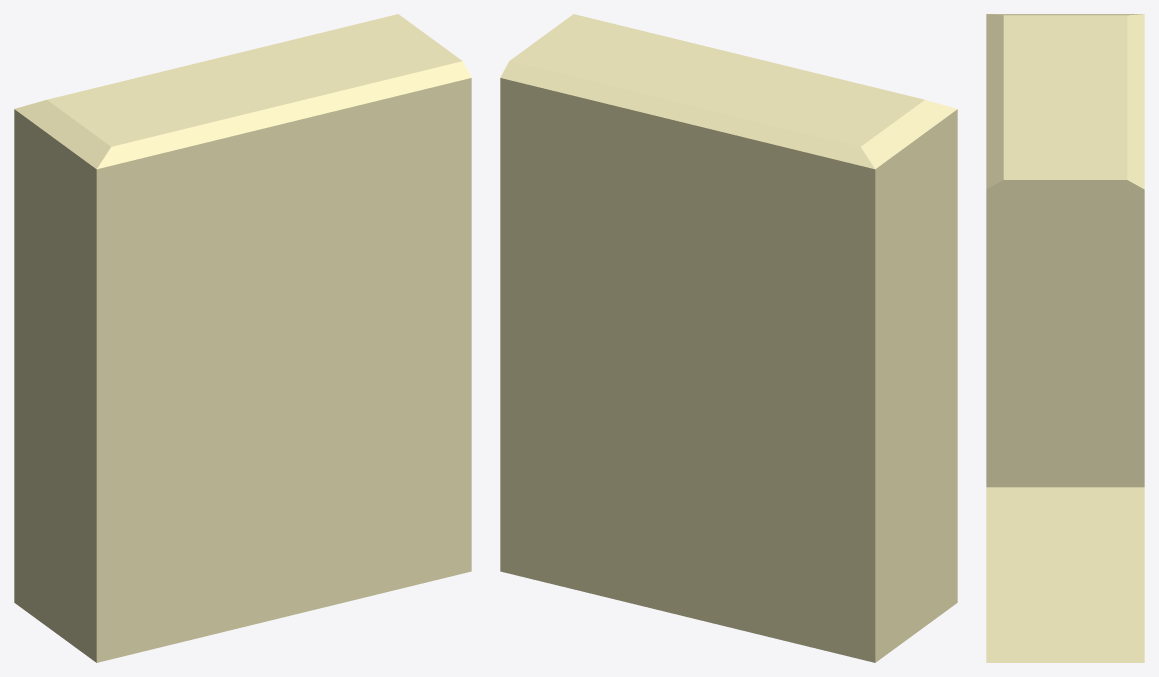
The model's file is Itr_Couch_Outside_Back_Left_02.FBX.
3 renders of one model, left to right at view 1: azimuth 30°, elevation 25°; view 2: azimuth 150°, elevation 25°; view 3: azimuth 270°, elevation 25°, orthographic. The views are drawn at different scales.
Visible parts, largest first — view 1: Itr_Couch_Outside_Back_Left_02; view 2: Itr_Couch_Outside_Back_Left_02; view 3: Itr_Couch_Outside_Back_Left_02.
Boxes of the visible parts, x1=… form: Itr_Couch_Outside_Back_Left_02: x1=14, y1=14, x2=471, y2=662; Itr_Couch_Outside_Back_Left_02: x1=500, y1=14, x2=957, y2=662; Itr_Couch_Outside_Back_Left_02: x1=986, y1=14, x2=1144, y2=662.
Size of the model in its own units: 18.89 by 24.24 by 7.19.
